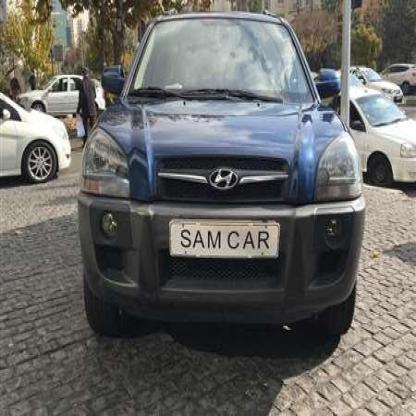Car: (79, 14, 366, 366), (333, 96, 416, 205), (0, 71, 76, 187), (17, 72, 104, 121), (342, 58, 406, 112), (379, 60, 416, 97)
